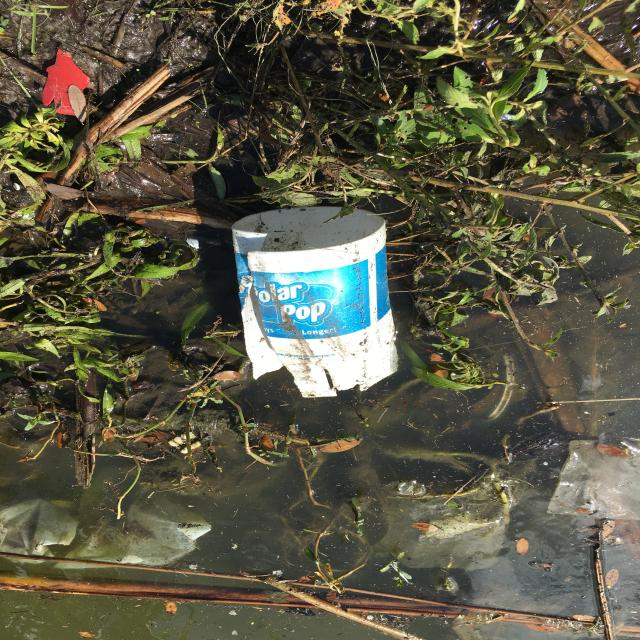litter: (219, 194, 427, 396)
